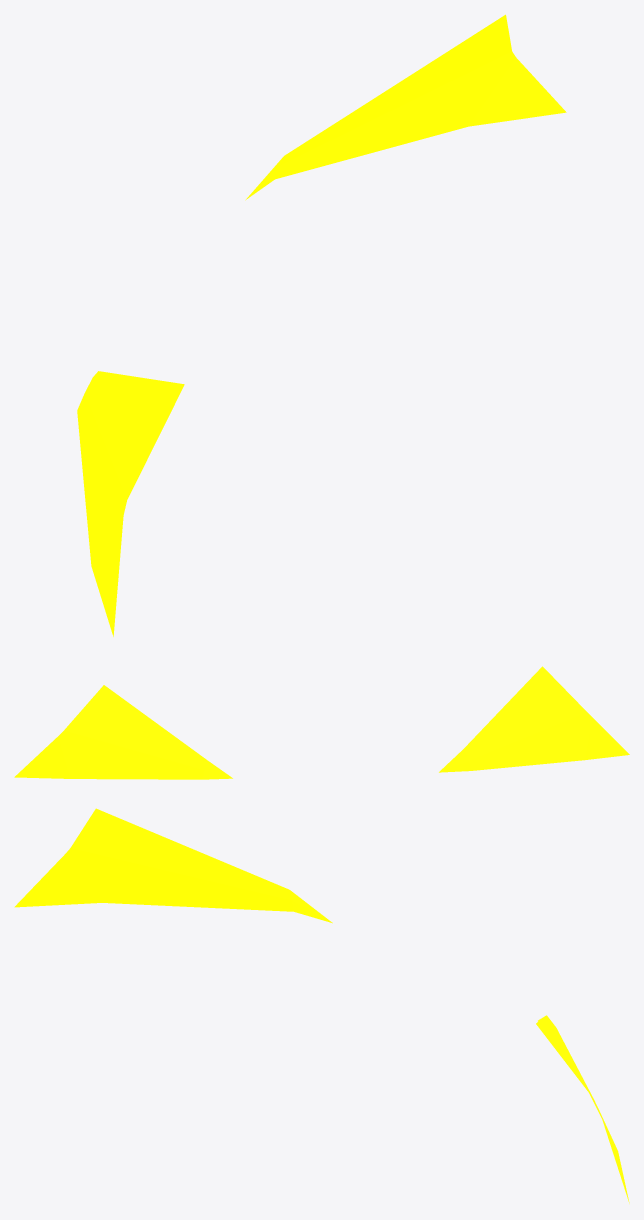
Rendered from Cat eyes.fbx.
The picture shows the model from 3 angles, top to bottom: view 1: azimuth 30°, elevation 25°; view 2: azimuth 150°, elevation 25°; view 3: azimuth 270°, elevation 25°; orthographic projection. The views are drawn at different scales.
Visible parts, largest first — view 1: Cube.044; view 2: Cube.044; view 3: Cube.044.
Part boxes in pixels (bbox=[...]): Cube.044: bbox=[77, 14, 566, 636]; Cube.044: bbox=[14, 666, 629, 779]; Cube.044: bbox=[14, 808, 629, 1203].
Size of the model in its own units: 29.94 by 6.98 by 23.96.
